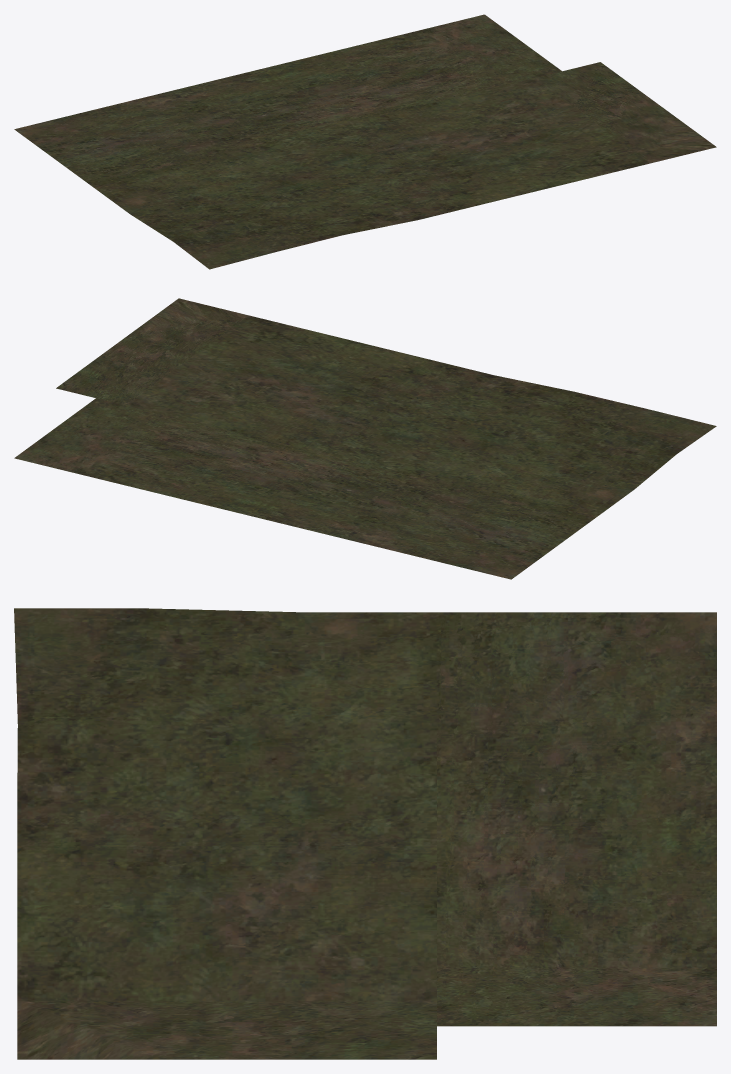
The model's file is blend_weeds09.fbx.
3 renders of one model, top to bottom at view 1: azimuth 30°, elevation 25°; view 2: azimuth 150°, elevation 25°; view 3: azimuth 270°, elevation 25°, orthographic. The views are drawn at different scales.
Parts seen in each view (by area): view 1: New_terrain/brushblend_shadow; view 2: New_terrain/brushblend_shadow; view 3: New_terrain/brushblend_shadow.
Part boxes in pixels (x1,y1,x2,y2): New_terrain/brushblend_shadow: (14, 14, 716, 269); New_terrain/brushblend_shadow: (14, 298, 716, 579); New_terrain/brushblend_shadow: (14, 608, 716, 1059).
Bounding box in the file's own units: 18.92 × 0.1101 × 12.56.
